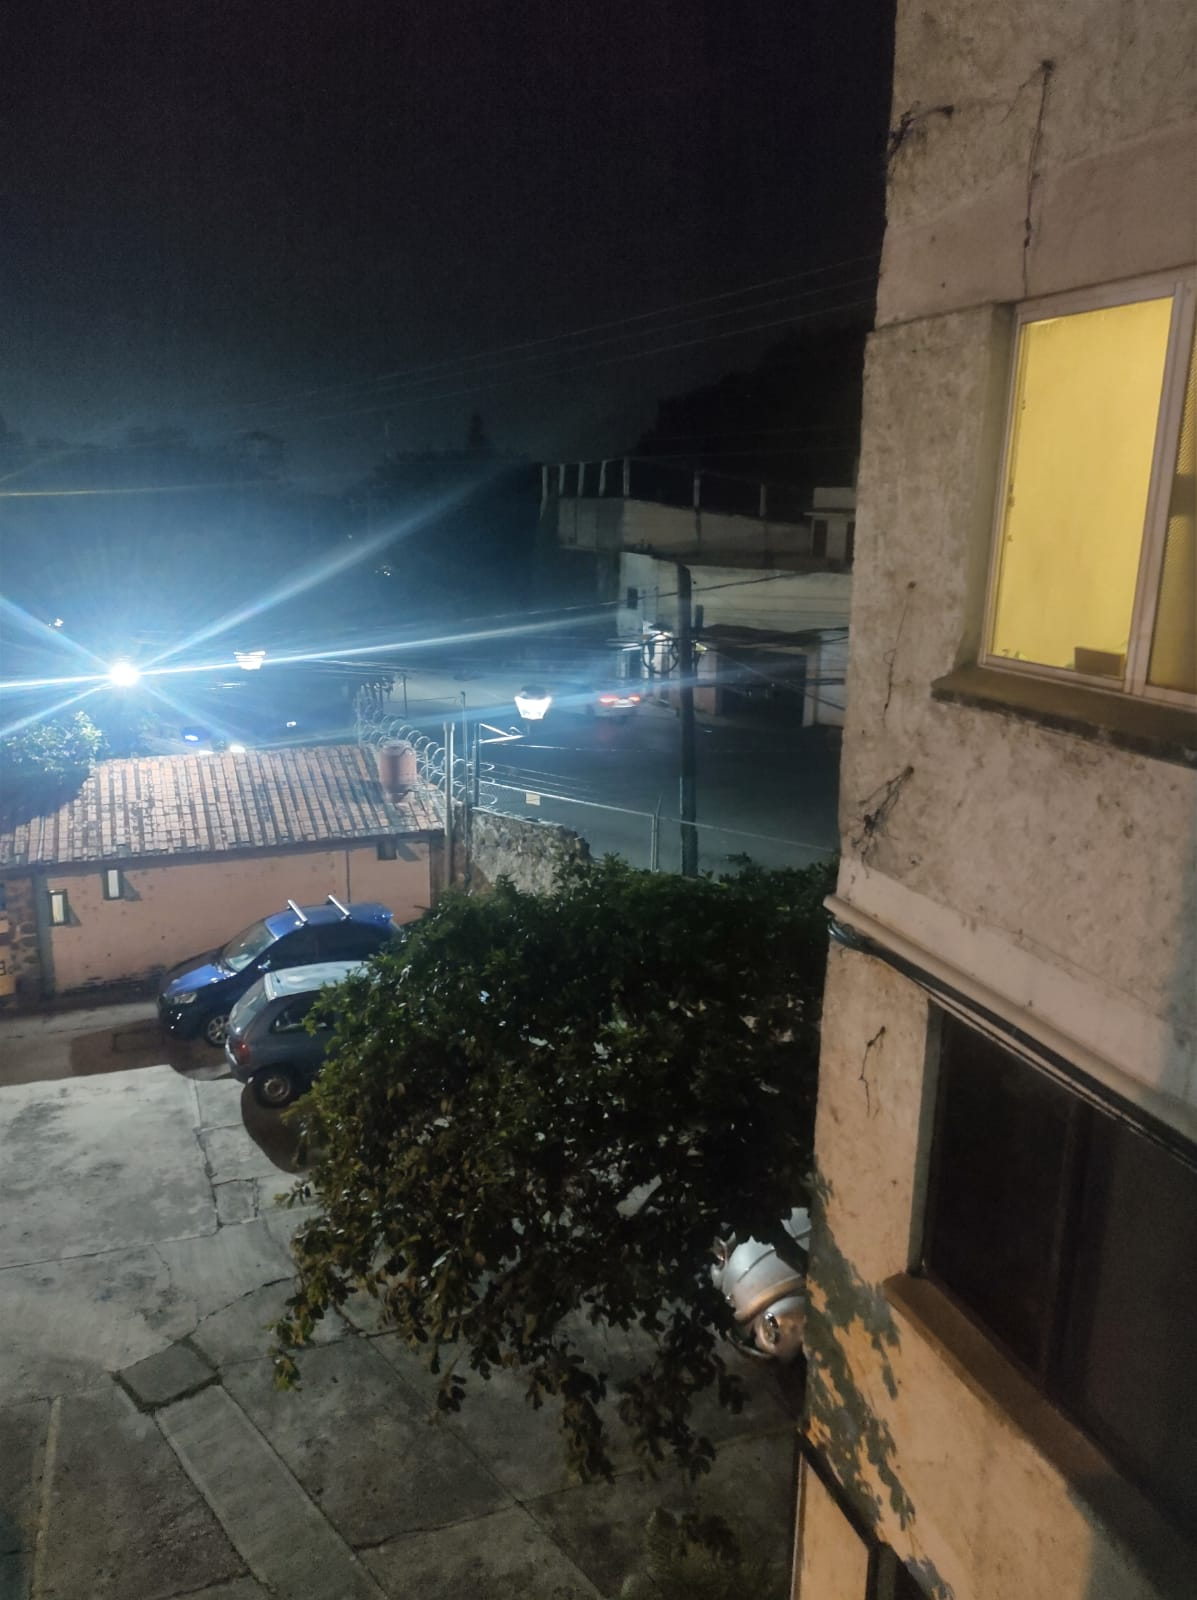Auto: (158, 899, 422, 1048), (225, 960, 469, 1116), (557, 682, 645, 724)
